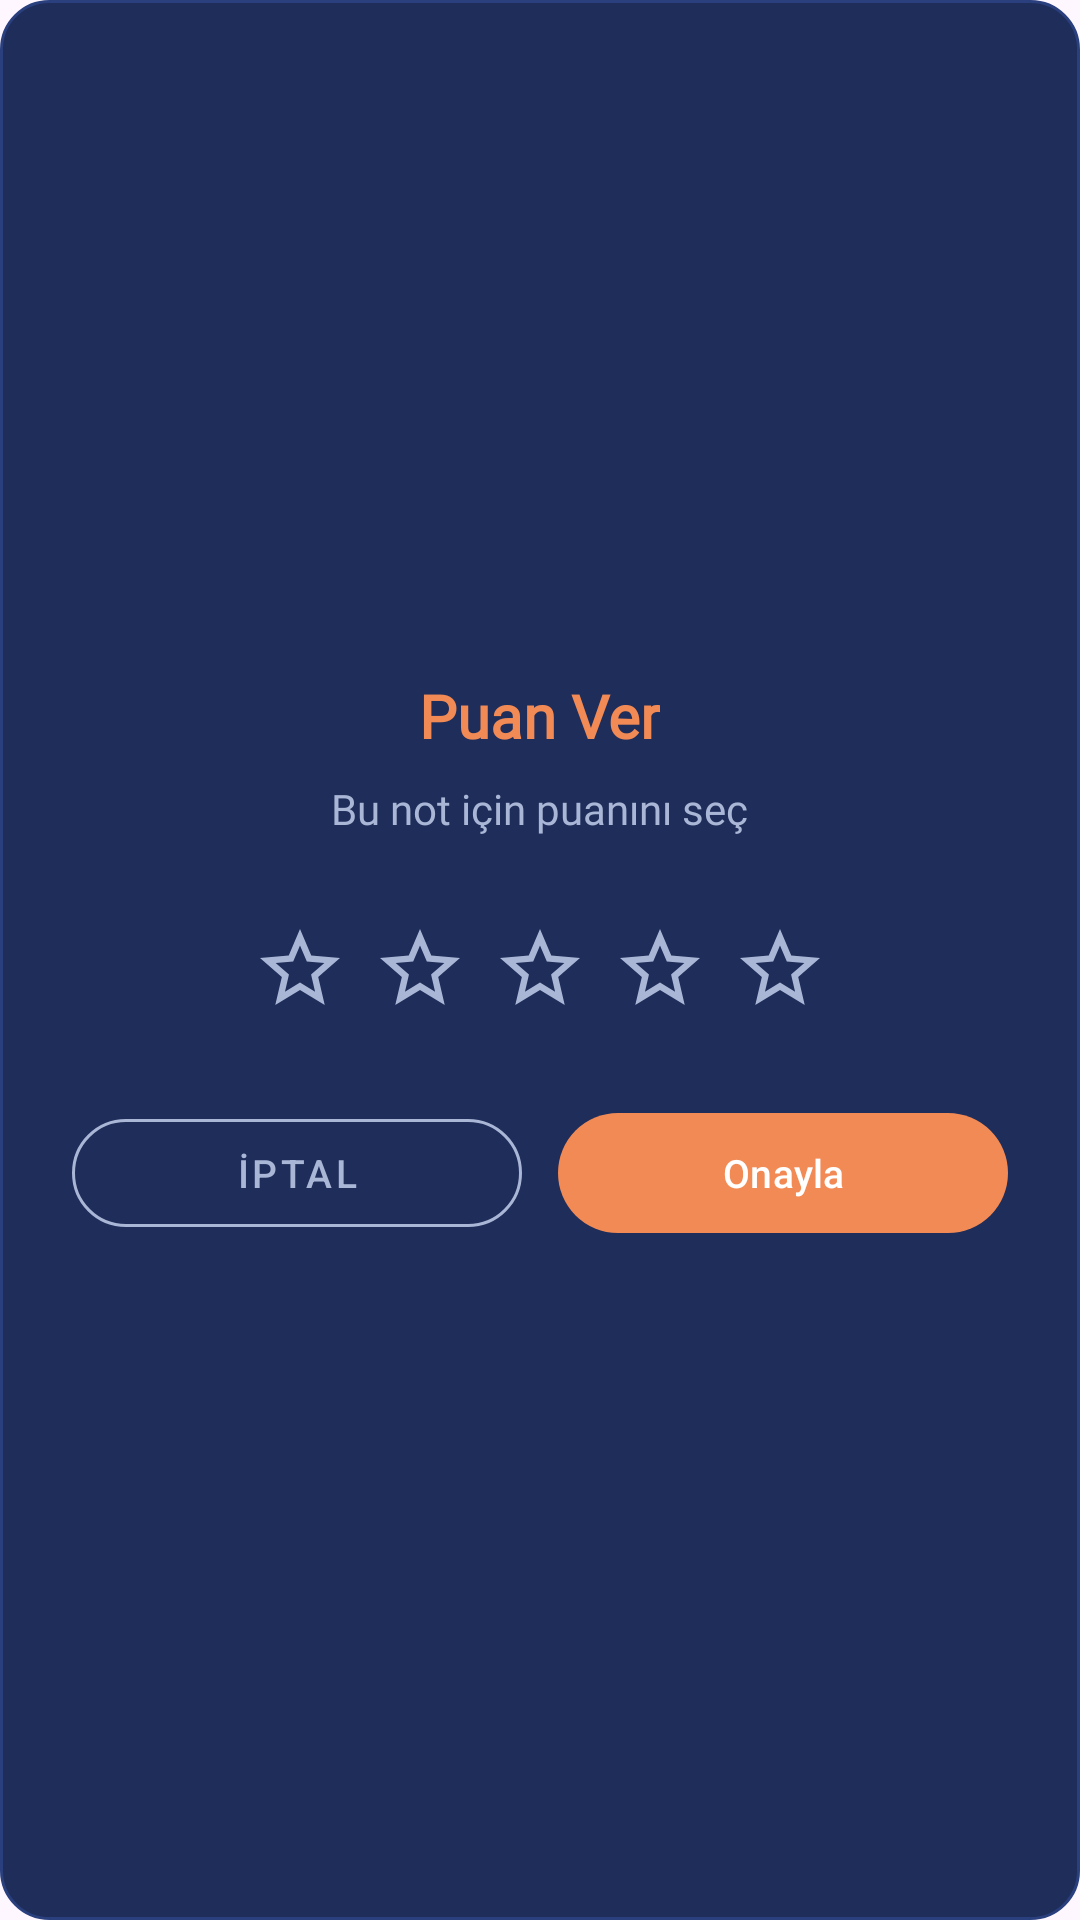

Locate icon controls on the screen. Image size 1080×1920, boxes as (left=x1, top=y1, right=x2, bottom=y2).
star: (left=260, top=929, right=340, bottom=1005), (left=380, top=929, right=460, bottom=1005), (left=500, top=929, right=580, bottom=1005), (left=620, top=929, right=700, bottom=1005), (left=740, top=929, right=820, bottom=1005)
